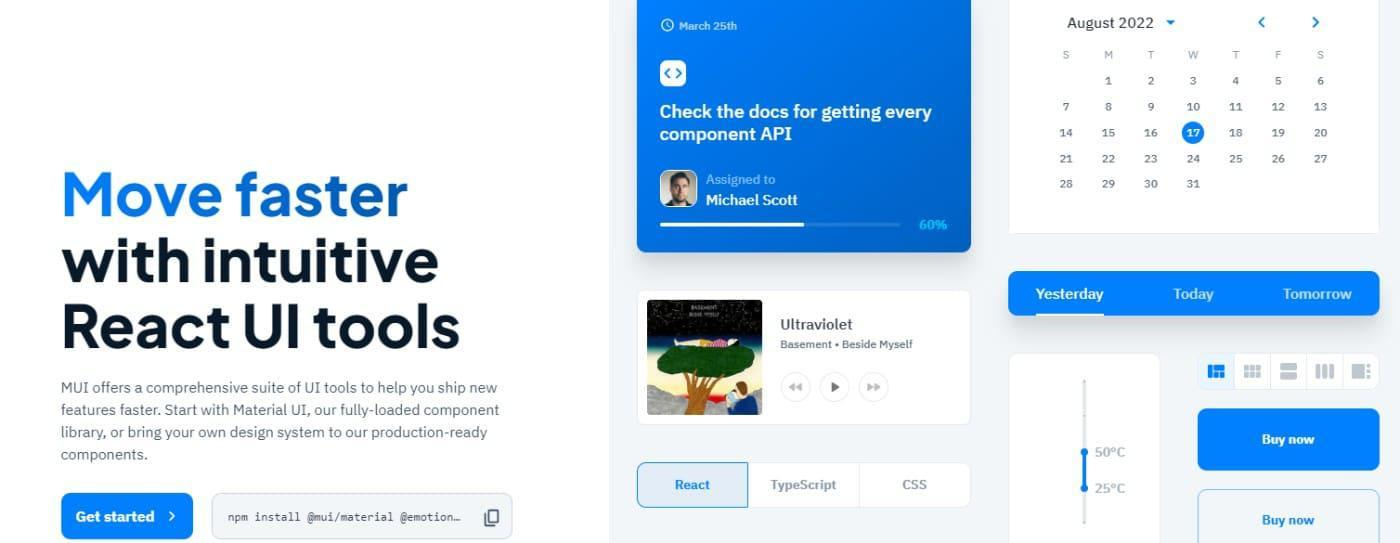button: (1199, 408, 1381, 473), (1198, 489, 1382, 543), (62, 493, 194, 539), (638, 463, 750, 508), (749, 462, 860, 507), (861, 462, 970, 507)
icon: (1251, 10, 1275, 38), (1305, 12, 1327, 38), (864, 380, 884, 398), (788, 381, 807, 396), (829, 380, 843, 396)
input: (213, 495, 514, 539)
label: (1062, 14, 1159, 35), (782, 316, 854, 336)
radio: (1233, 354, 1275, 391), (1197, 353, 1235, 391), (1306, 353, 1346, 389), (1346, 356, 1382, 391), (1273, 355, 1306, 388)
slider: (1071, 375, 1095, 532)
